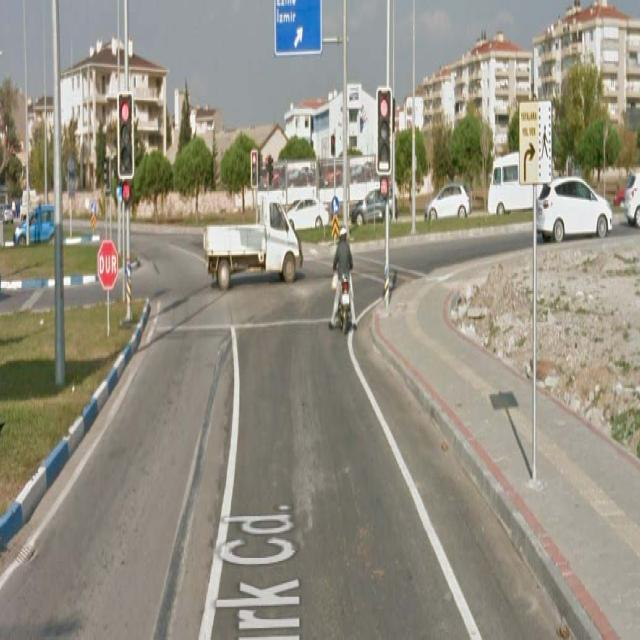dur: (97, 240, 118, 290)
ilerisag: (332, 196, 340, 217)
kirmizi: (119, 96, 133, 178), (377, 88, 389, 175)
